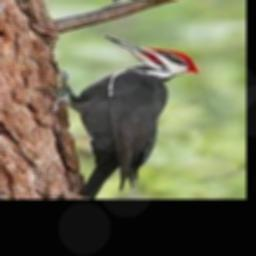Woodpecker: (41, 34, 199, 199)
